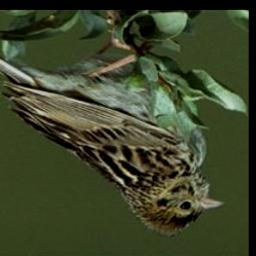Sparrow: (0, 26, 227, 241)
